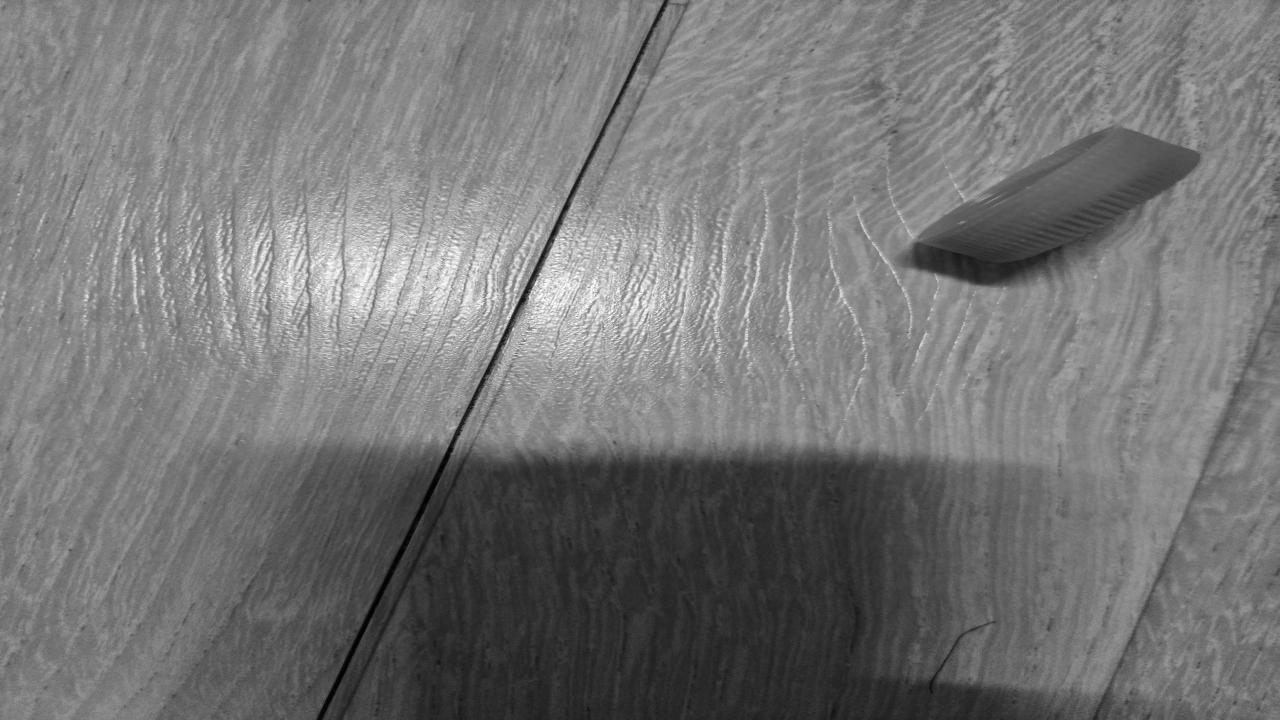bottle_cap: (885, 122, 1210, 266)
